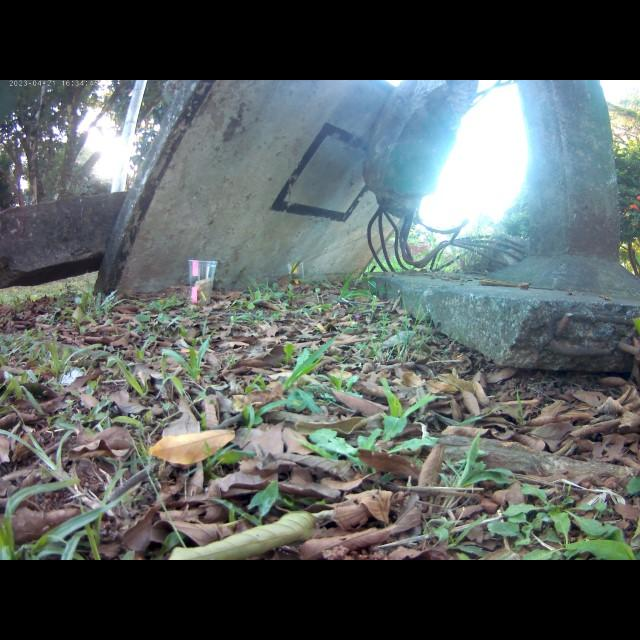detrito: (84, 81, 472, 307), (368, 254, 640, 383), (470, 84, 624, 259), (0, 184, 141, 297)
